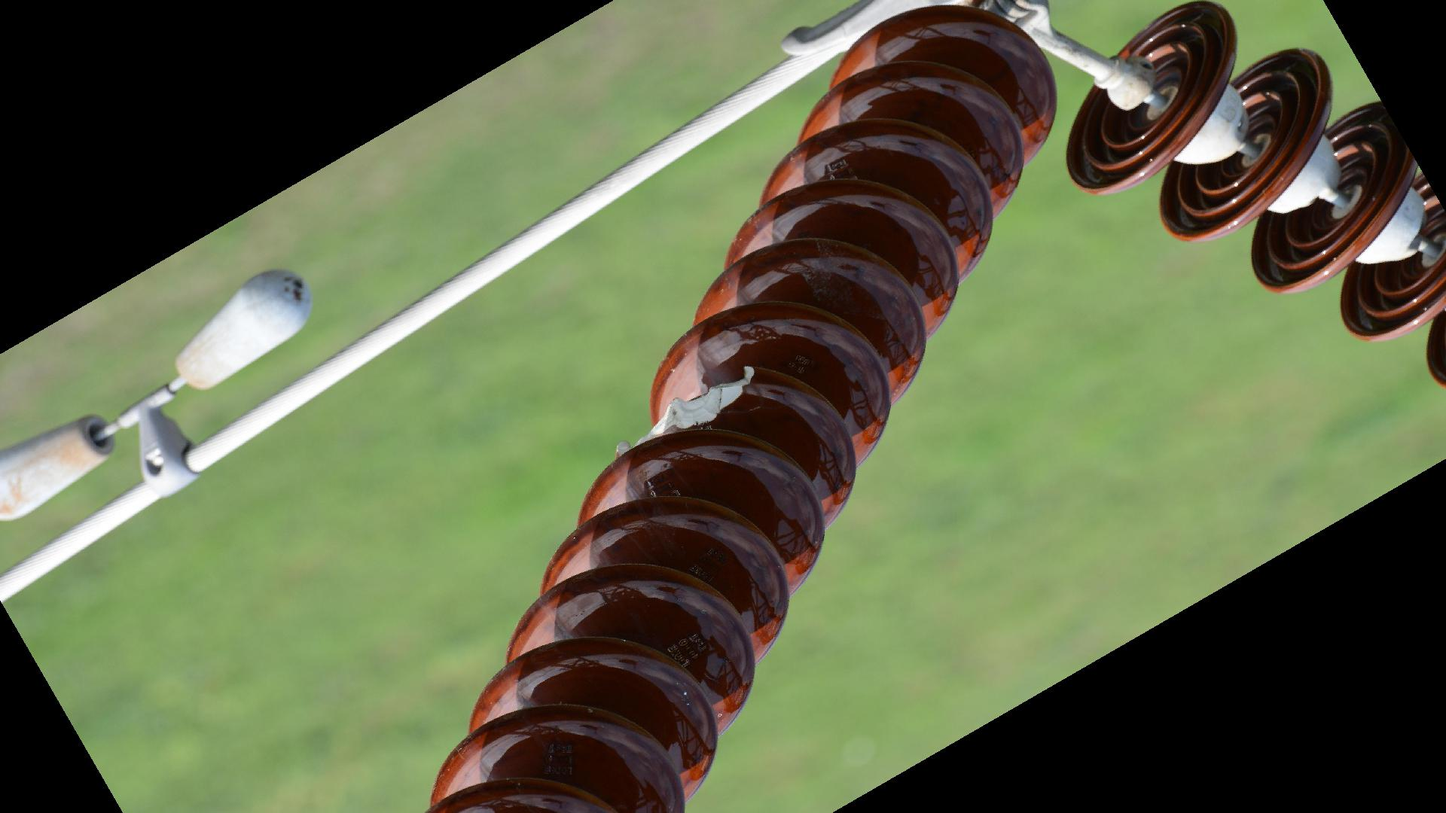insulator: (417, 4, 1063, 813), (1061, 1, 1446, 394)
insulator_breakage: (607, 357, 767, 458)
